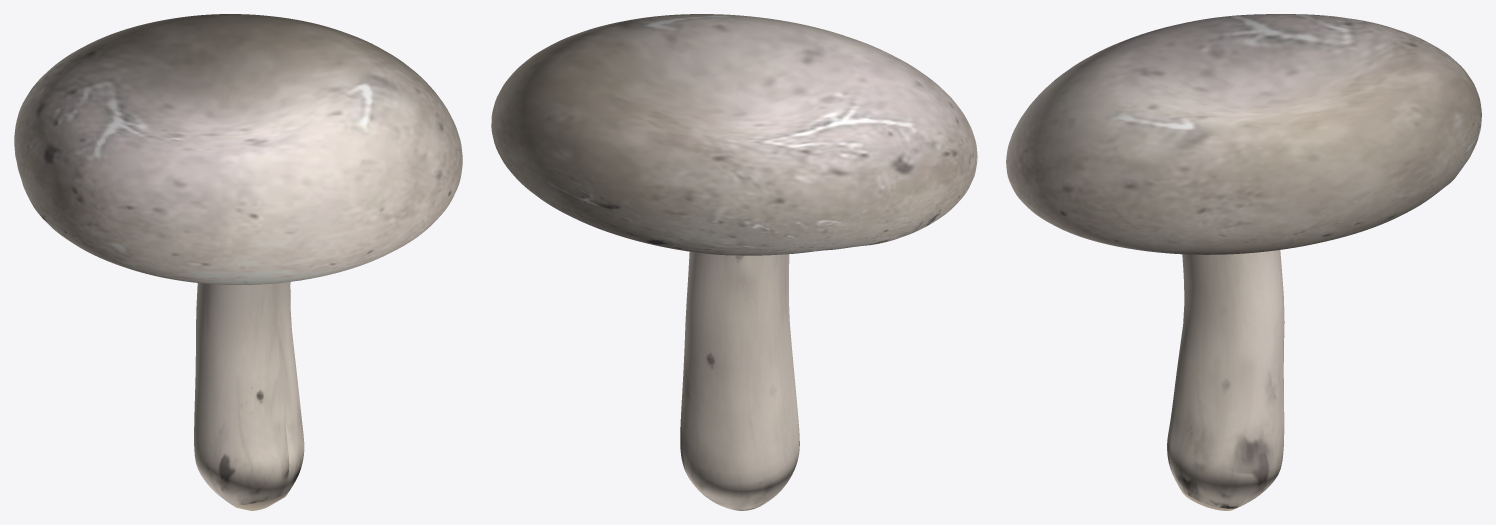
The model's file is SENE_28.fbx.
3 views of the same model, side by side, from view 1: azimuth 30°, elevation 25°; view 2: azimuth 150°, elevation 25°; view 3: azimuth 270°, elevation 25° (orthographic). The views are drawn at different scales.
Visible parts, largest first — view 1: SENE_29; view 2: SENE_29; view 3: SENE_29.
Part boxes in pixels (x1,y1,x2,y2): SENE_29: (14, 14, 462, 510); SENE_29: (491, 14, 977, 510); SENE_29: (1006, 14, 1481, 510).
Bounding box in the file's own units: 52.75 × 53.89 × 53.42.
1 material, 1 textured.
